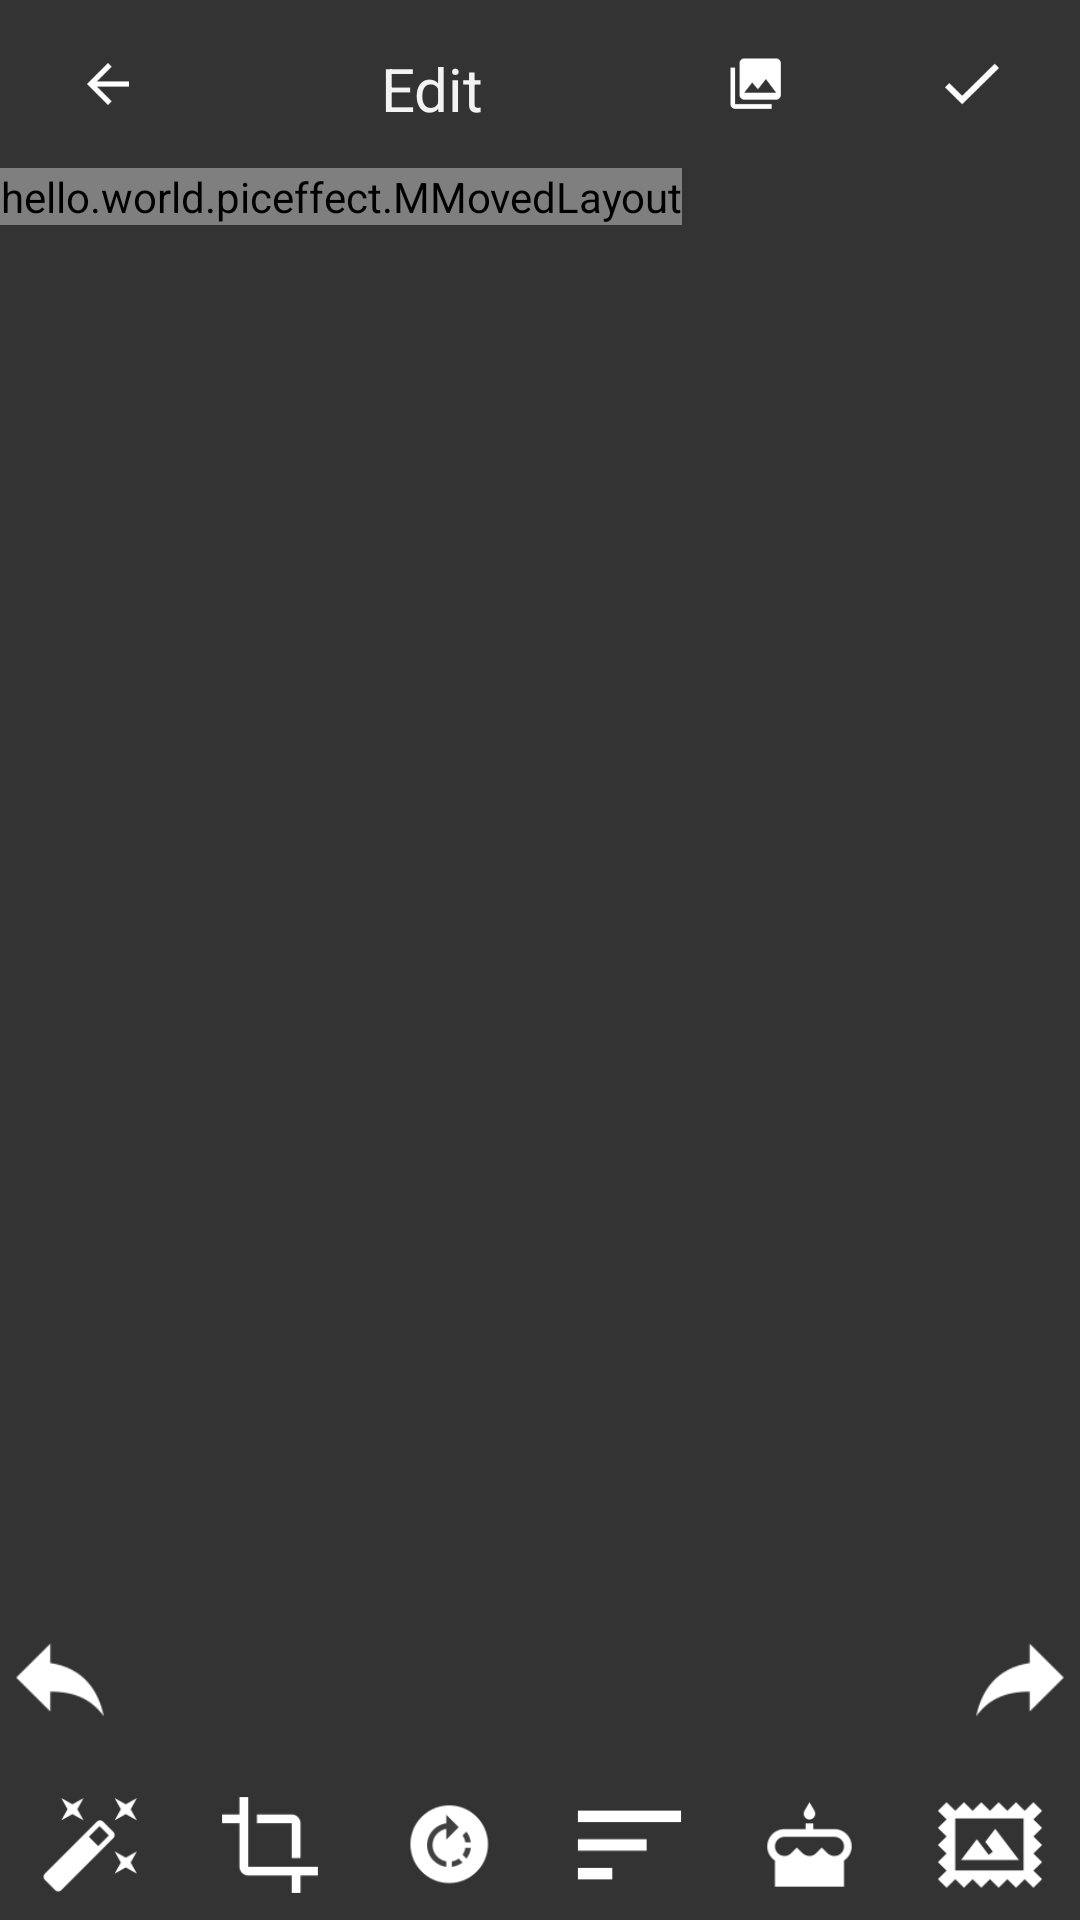

Where to tap for icons on this 1080w x 1920h app screen, as (x,y):
back: (108,84)
edge: (990,1845)
filter: (90,1845)
finish: (972,84)
for word: (1020,1680)
photos: (755,83)
roll back: (60,1680)
rotate: (449,1844)
size: (270,1845)
sticker: (809,1844)
text: (629,1845)
